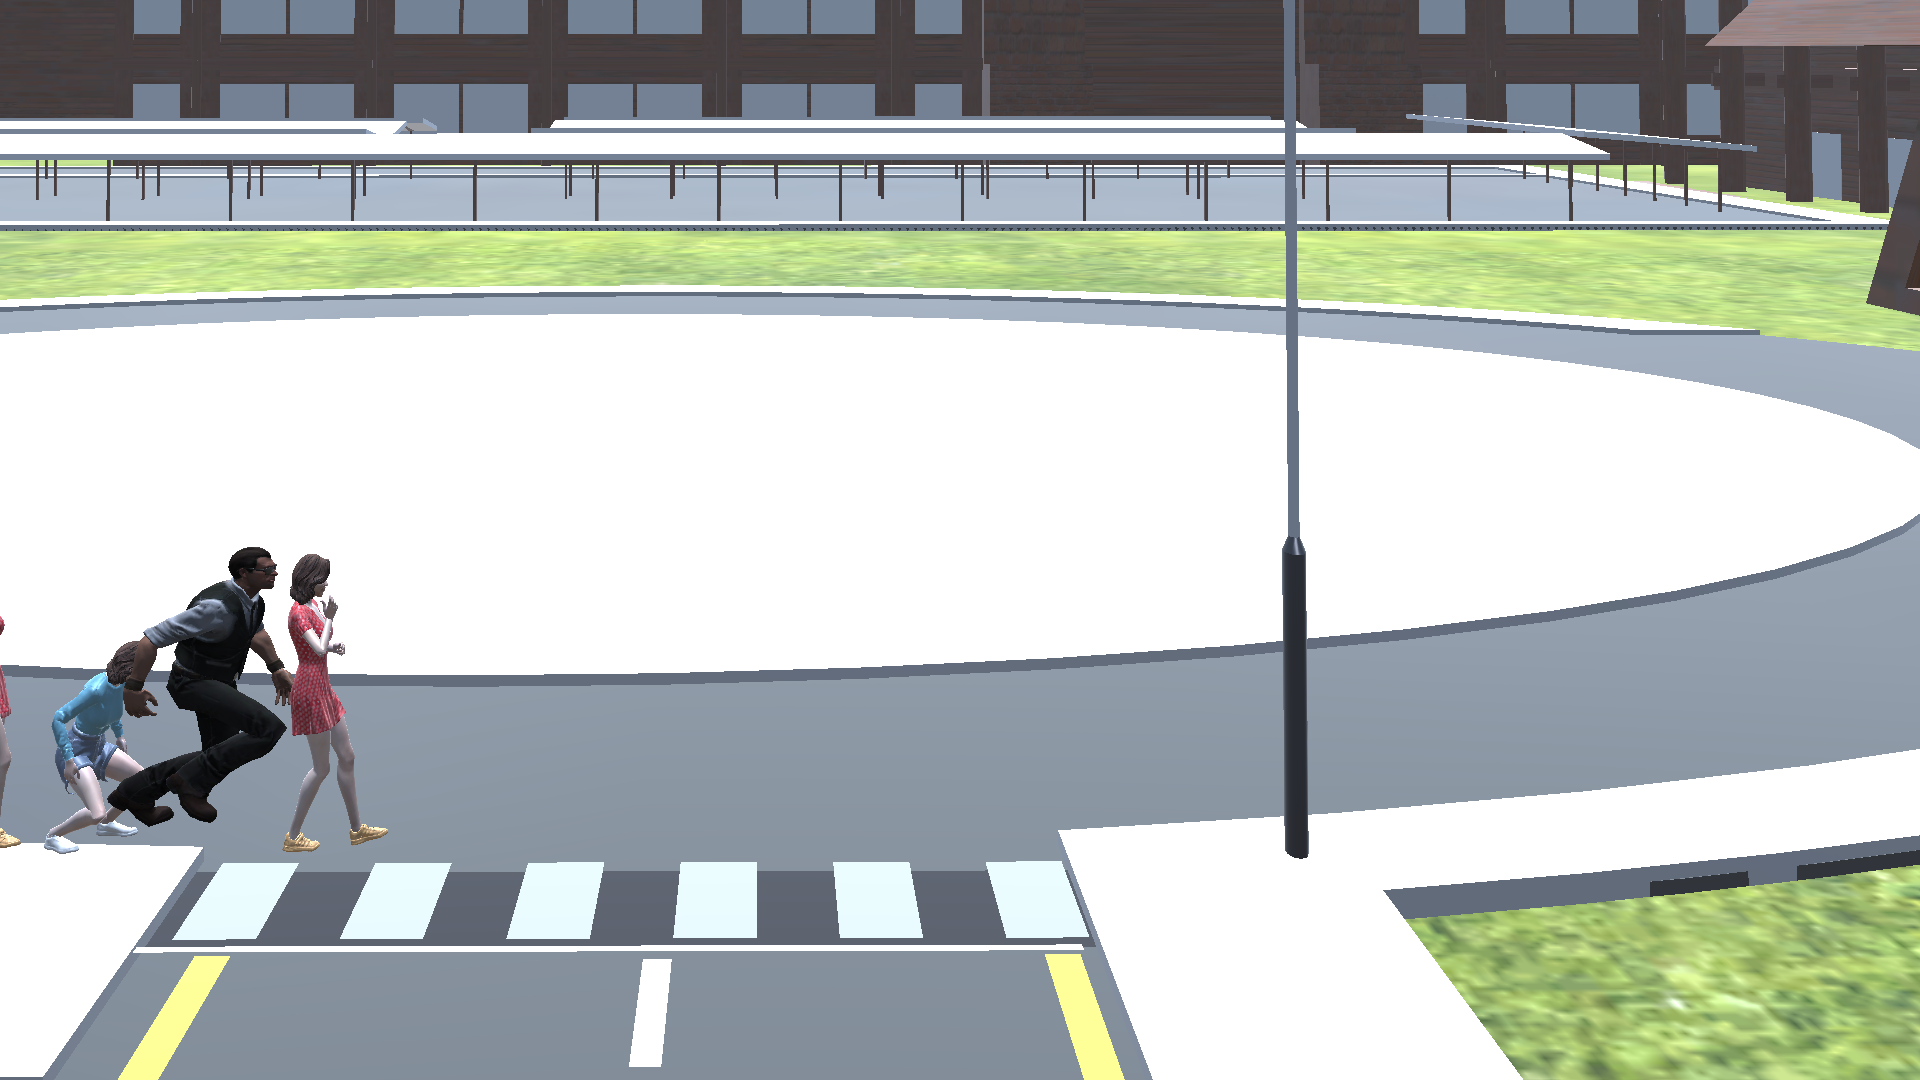pedestrian: (127, 544, 277, 840), (282, 549, 396, 860), (43, 620, 134, 855)
